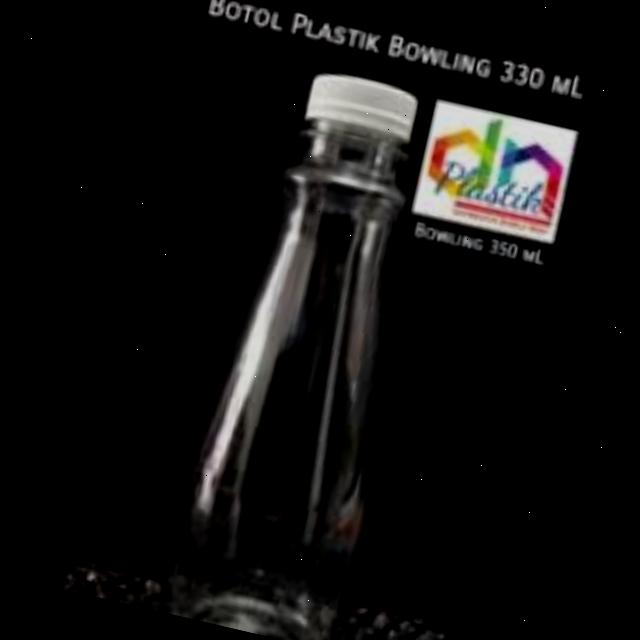trash: (121, 49, 477, 640)
